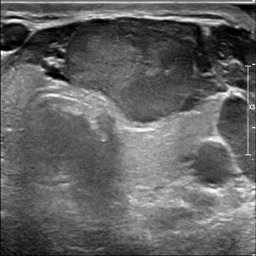mass: (65, 20, 211, 123)
